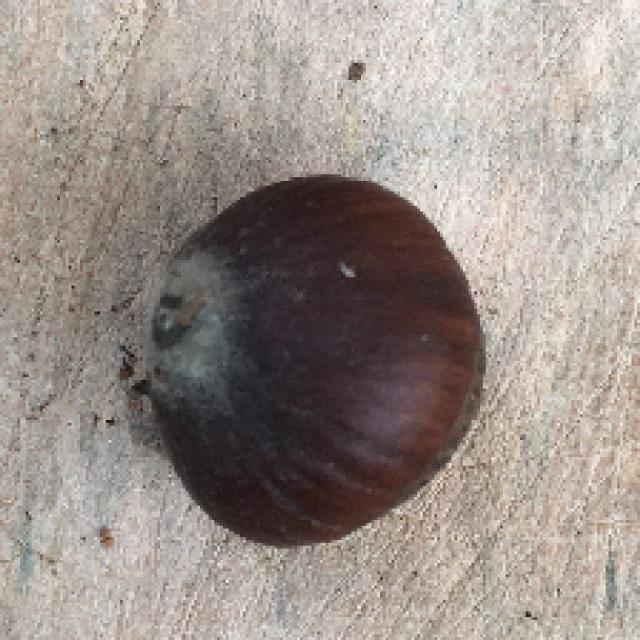damagedHazelnut: (144, 169, 495, 547)
